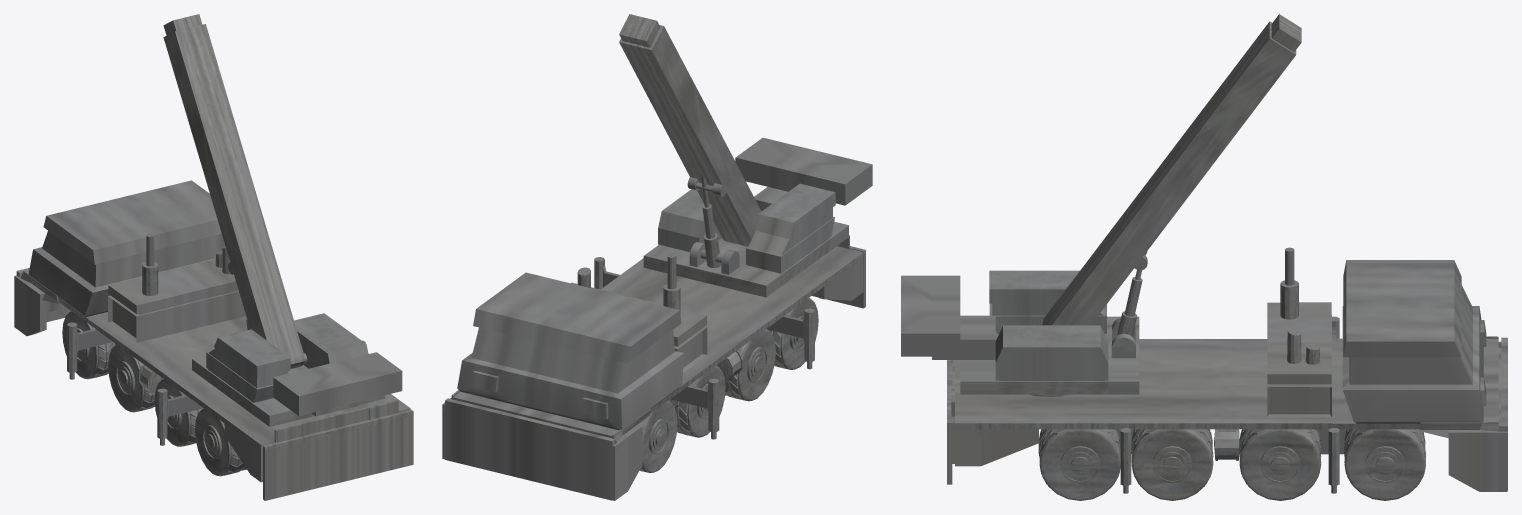
Rendered from inclasscarne.fbx.
3 renders of one model, left to right at view 1: azimuth 30°, elevation 25°; view 2: azimuth 150°, elevation 25°; view 3: azimuth 270°, elevation 25°, orthographic. The views are drawn at different scales.
Visible parts, largest first — view 1: pCylinder40; view 2: pCylinder40; view 3: pCylinder40.
Part boxes in pixels (box(x1,y1,x2,y2)): pCylinder40: box(14, 14, 413, 500); pCylinder40: box(442, 14, 872, 500); pCylinder40: box(901, 14, 1507, 500).
Size of the model in its own units: 67.95 by 119 by 151.
